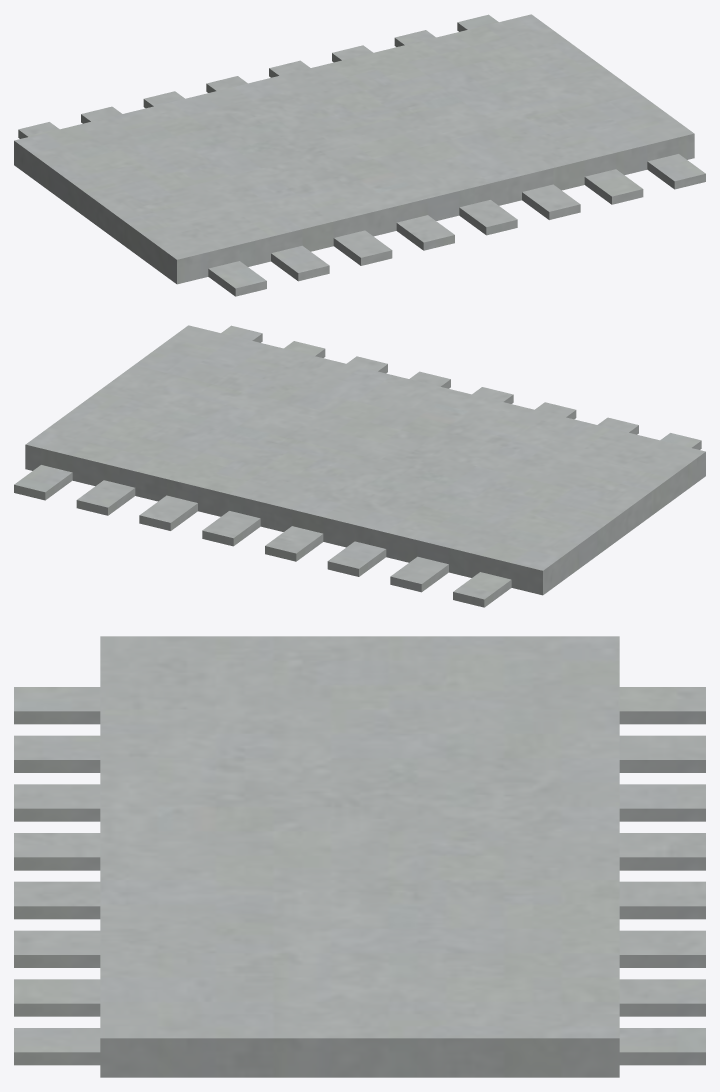
File: memoria.obj
3 views of the same model, one above another, from view 1: azimuth 30°, elevation 25°; view 2: azimuth 150°, elevation 25°; view 3: azimuth 270°, elevation 25° (orthographic). The views are drawn at different scales.
Parts seen in each view (by area): view 1: entity0_brush0, entity0_brush7, entity0_brush3, entity0_brush2, entity0_brush6, entity0_brush4, entity0_brush8, entity0_brush1, entity0_brush5; view 2: entity0_brush0, entity0_brush10, entity0_brush14, entity0_brush11, entity0_brush15, entity0_brush9, entity0_brush13, entity0_brush16, entity0_brush12; view 3: entity0_brush0, entity0_brush5, entity0_brush12, entity0_brush3, entity0_brush4, entity0_brush7, entity0_brush10, entity0_brush13, entity0_brush14, entity0_brush1, entity0_brush2, entity0_brush6 (+5 smaller).
Boxes of the visible parts, x1=… form: entity0_brush0: x1=14, y1=14, x2=694, y2=284; entity0_brush7: x1=584, y1=169, x2=643, y2=204; entity0_brush3: x1=333, y1=230, x2=392, y2=265; entity0_brush2: x1=271, y1=245, x2=329, y2=281; entity0_brush6: x1=522, y1=184, x2=580, y2=219; entity0_brush4: x1=396, y1=215, x2=454, y2=250; entity0_brush8: x1=647, y1=154, x2=705, y2=189; entity0_brush1: x1=208, y1=261, x2=266, y2=296; entity0_brush5: x1=459, y1=200, x2=517, y2=235; entity0_brush0: x1=25, y1=325, x2=705, y2=595; entity0_brush10: x1=76, y1=480, x2=135, y2=515; entity0_brush14: x1=327, y1=541, x2=386, y2=576; entity0_brush11: x1=139, y1=495, x2=197, y2=530; entity0_brush15: x1=390, y1=556, x2=448, y2=592; entity0_brush9: x1=14, y1=465, x2=72, y2=500; entity0_brush13: x1=265, y1=526, x2=323, y2=561; entity0_brush16: x1=453, y1=572, x2=511, y2=607; entity0_brush12: x1=202, y1=511, x2=260, y2=546; entity0_brush0: x1=100, y1=636, x2=619, y2=1077; entity0_brush5: x1=14, y1=881, x2=100, y2=919; entity0_brush12: x1=619, y1=881, x2=705, y2=919; entity0_brush3: x1=14, y1=784, x2=100, y2=821; entity0_brush4: x1=14, y1=833, x2=100, y2=870; entity0_brush7: x1=14, y1=979, x2=100, y2=1016; entity0_brush10: x1=619, y1=979, x2=705, y2=1016; entity0_brush13: x1=619, y1=833, x2=705, y2=870; entity0_brush14: x1=619, y1=784, x2=705, y2=821; entity0_brush1: x1=14, y1=687, x2=100, y2=724; entity0_brush2: x1=14, y1=735, x2=100, y2=772; entity0_brush6: x1=14, y1=930, x2=100, y2=967.
Bounding box in the file's own units: 264 × 12 × 192.
